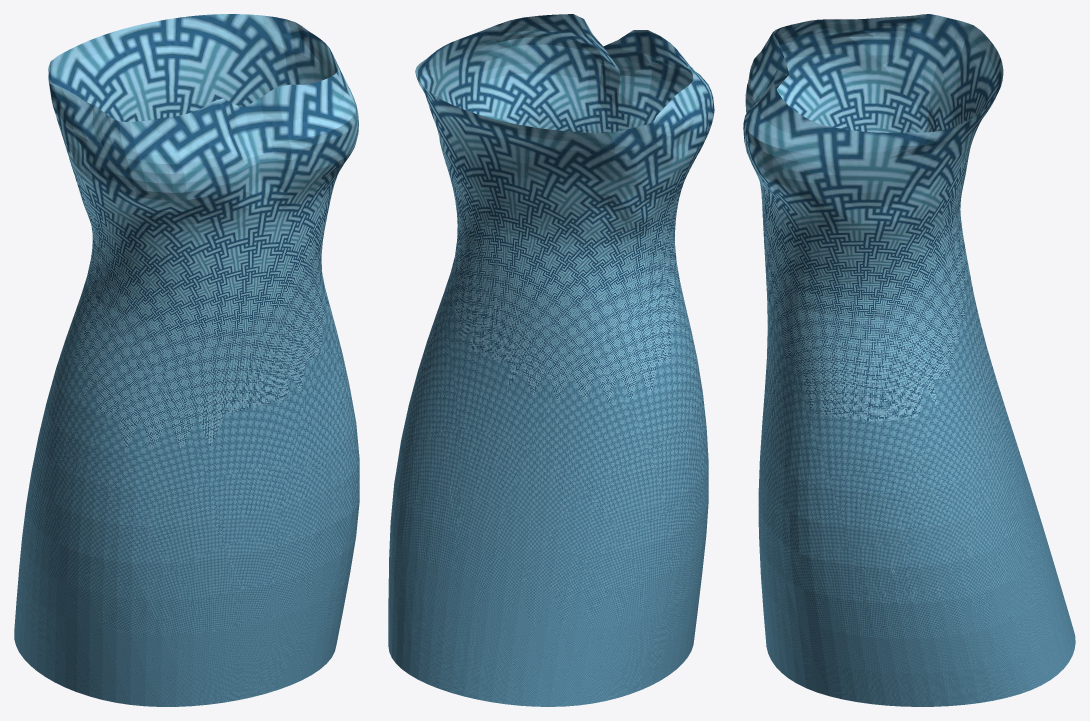
File: dress_navy.obj
3 renders of one model, left to right at view 1: azimuth 30°, elevation 25°; view 2: azimuth 150°, elevation 25°; view 3: azimuth 270°, elevation 25°, orthographic. The views are drawn at different scales.
Visible parts, largest first — view 1: Dress_Form; view 2: Dress_Form; view 3: Dress_Form.
Boxes of the visible parts, x1,y1,x2,y2 form: Dress_Form: [14, 14, 359, 706]; Dress_Form: [388, 14, 714, 706]; Dress_Form: [743, 14, 1075, 706].
Bounding box in the file's own units: 0.2536 × 0.4956 × 0.2535.
Materials: 1 (1 with a texture image).
